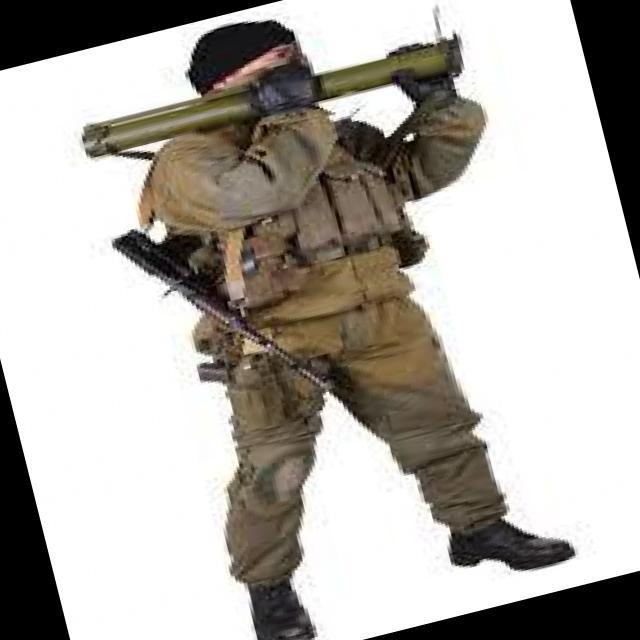rocket: (78, 28, 475, 165)
